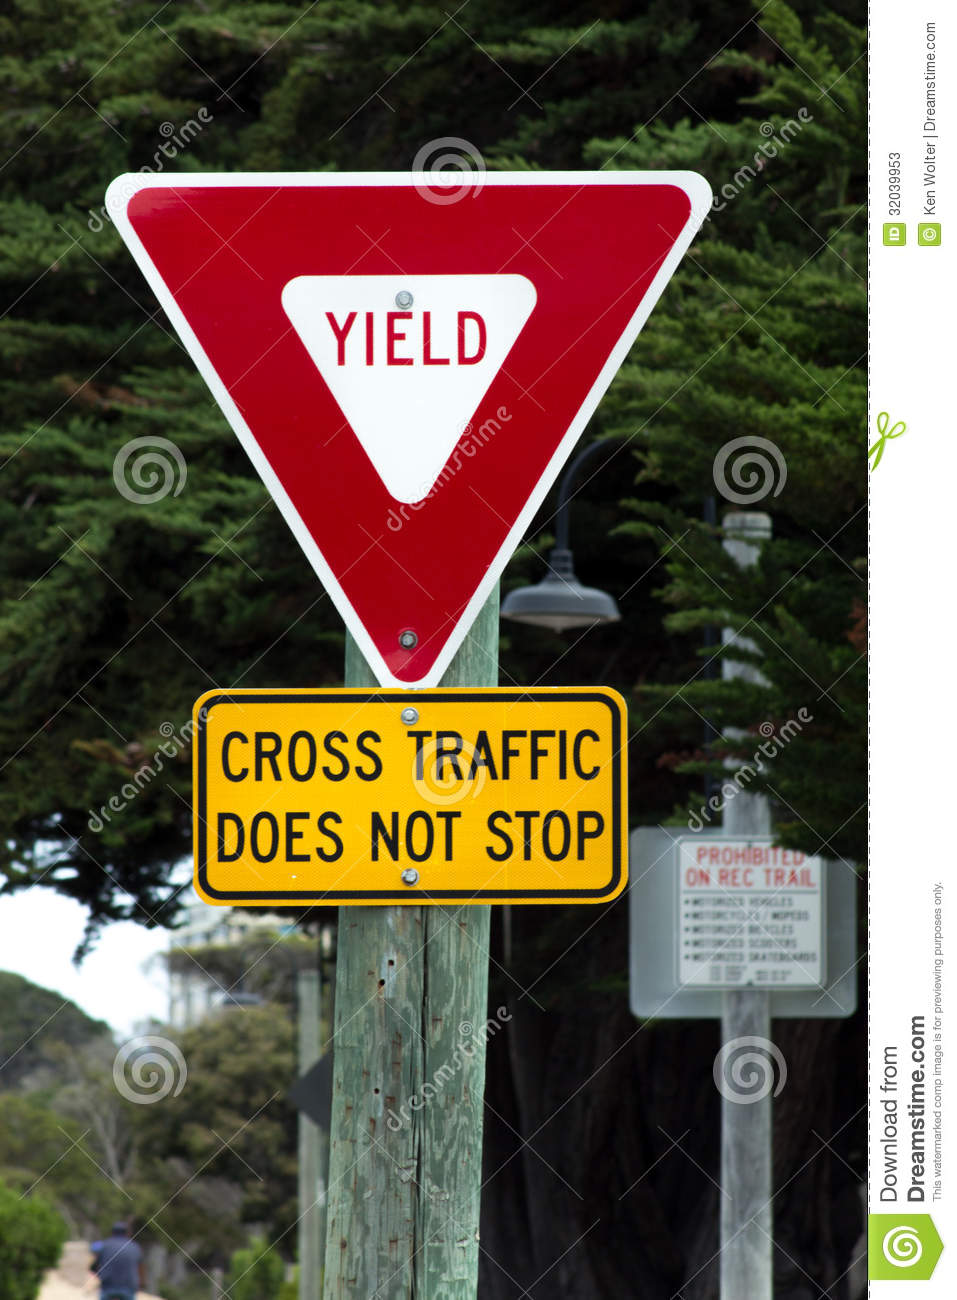yield_sign: (100, 159, 705, 679)
